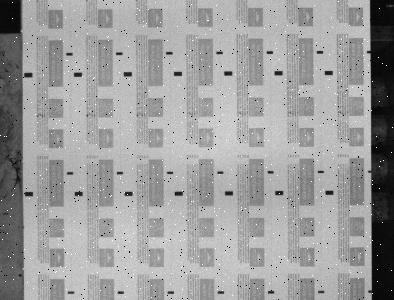backgroundclutter: (18, 273, 22, 277), (22, 267, 24, 270)
incorrect qblock: (367, 50, 371, 54), (368, 170, 372, 173), (368, 290, 372, 293)
qblock: (24, 72, 33, 78), (123, 72, 132, 77), (324, 70, 333, 75), (174, 71, 183, 76), (24, 191, 33, 196), (124, 191, 133, 196), (74, 191, 83, 196), (174, 191, 183, 196), (74, 72, 82, 77), (224, 71, 232, 76), (325, 190, 333, 195), (225, 191, 233, 196), (274, 71, 283, 75), (275, 191, 284, 195)
smallqblock: (66, 52, 73, 56), (166, 51, 173, 55), (316, 50, 323, 54), (268, 290, 274, 294), (116, 52, 123, 55), (216, 51, 223, 54), (266, 51, 273, 54), (67, 172, 74, 175), (317, 170, 324, 173), (267, 171, 274, 174), (217, 171, 224, 174), (67, 291, 74, 294), (117, 291, 124, 294), (318, 290, 325, 293), (167, 291, 174, 294), (217, 291, 224, 294), (117, 171, 123, 174), (167, 171, 173, 174)
